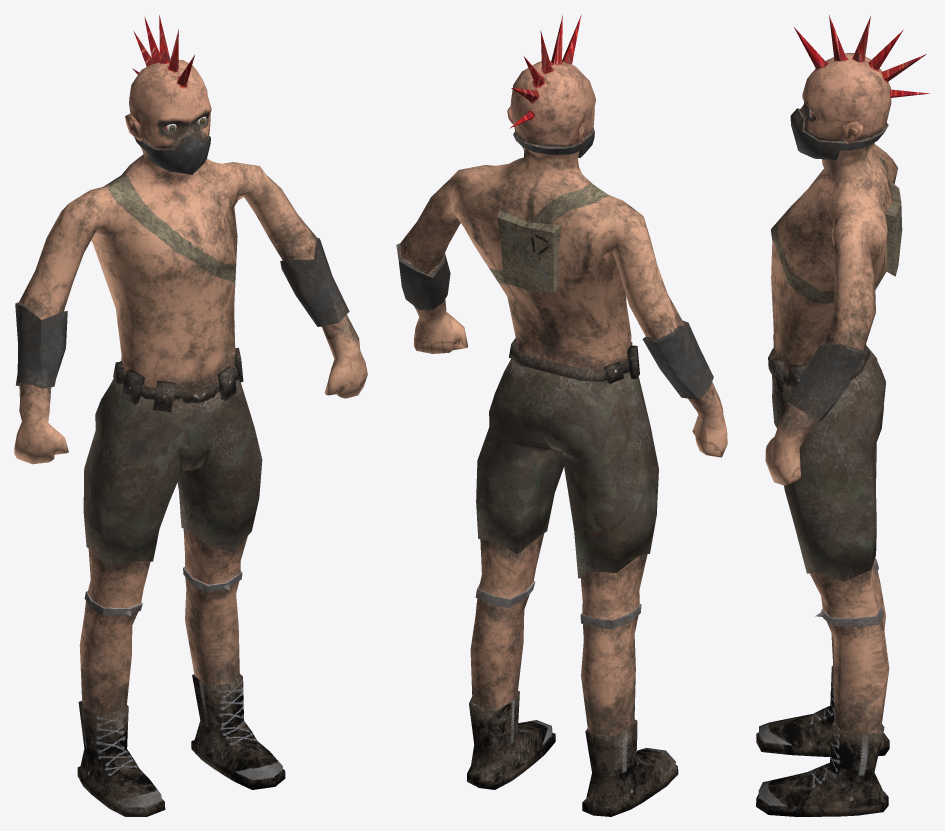
File: Anim_idle_npc2.0039.obj
3 views of the same model, side by side, from view 1: azimuth 30°, elevation 25°; view 2: azimuth 150°, elevation 25°; view 3: azimuth 270°, elevation 25° (orthographic). The views are drawn at different scales.
Visible parts, largest first — view 1: polySurface1; view 2: polySurface1; view 3: polySurface1.
Boxes of the visible parts, box(x1,y1,x2,y2) form: polySurface1: box(14, 15, 367, 816); polySurface1: box(396, 14, 727, 816); polySurface1: box(756, 15, 929, 816).
Size of the model in its own units: 4.67 by 10.18 by 2.11.
